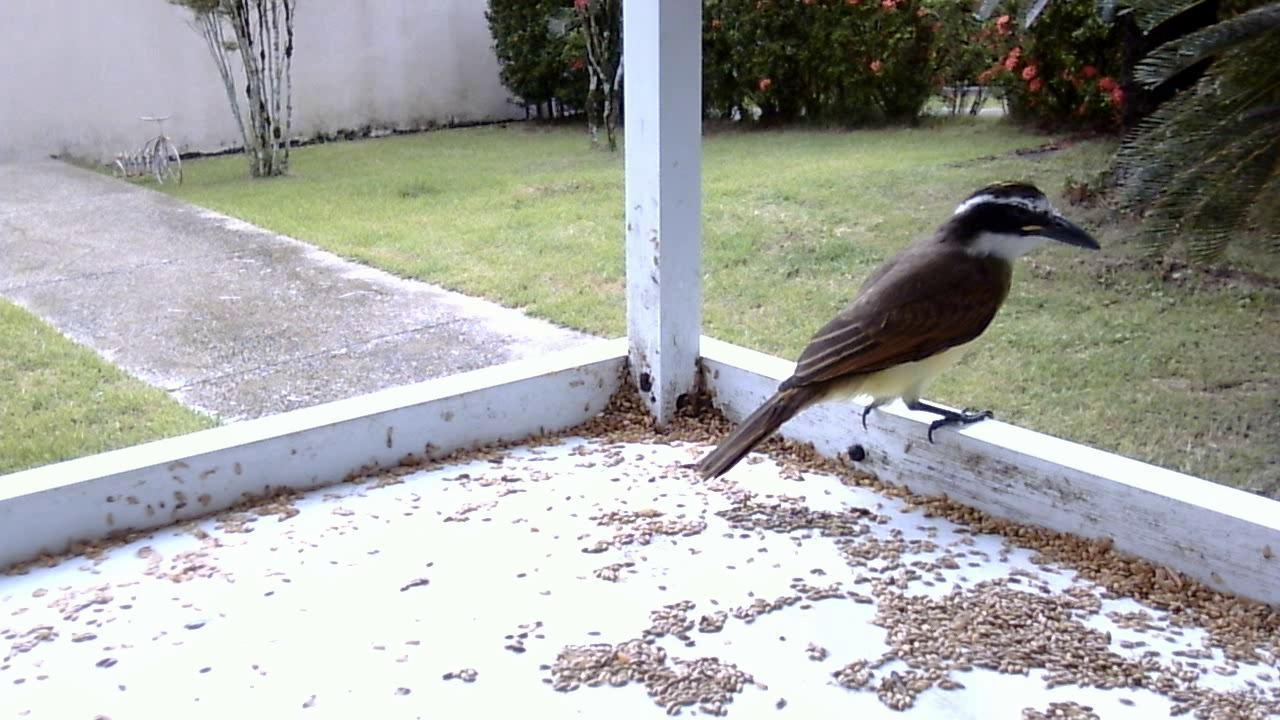bem_te_vi: (676, 178, 1108, 489)
